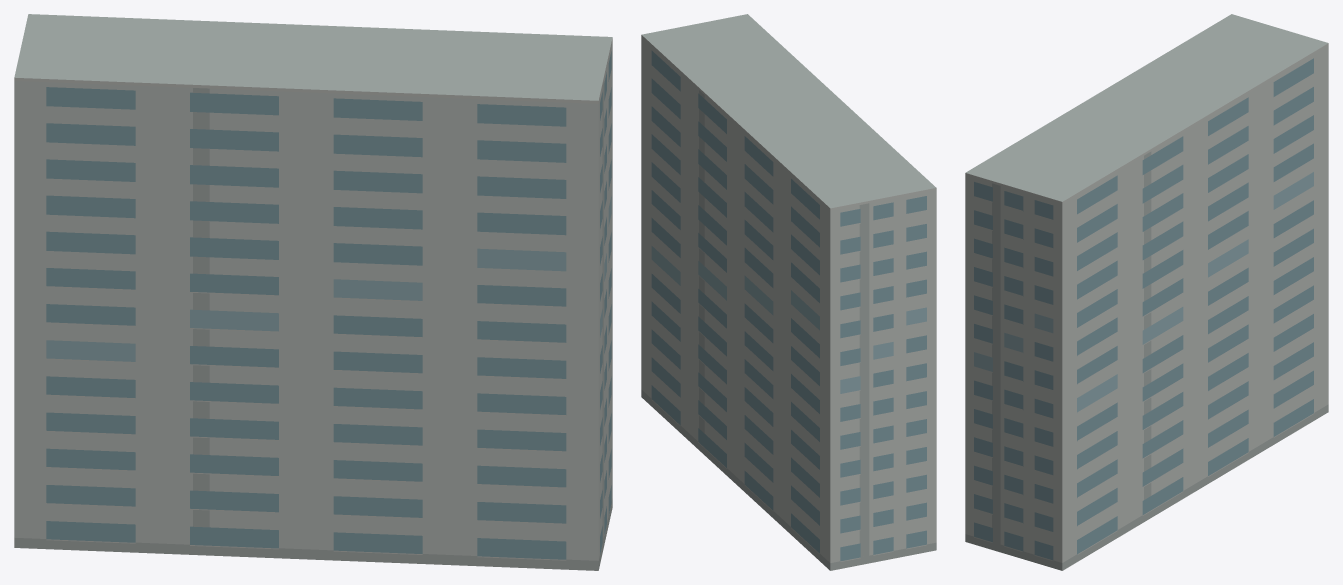
The model's file is residential-ad3ca71e-b210-4a19-a497-d48e309273f7.glb.
3 renders of one model, left to right at view 1: azimuth 30°, elevation 25°; view 2: azimuth 150°, elevation 25°; view 3: azimuth 270°, elevation 25°, orthographic. The views are drawn at different scales.
Visible parts, largest first — view 1: residential-ad3ca71e-b210-4a19-a497-d48e309273f7.tmp; view 2: residential-ad3ca71e-b210-4a19-a497-d48e309273f7.tmp; view 3: residential-ad3ca71e-b210-4a19-a497-d48e309273f7.tmp.
Part boxes in pixels (x1,y1,x2,y2): residential-ad3ca71e-b210-4a19-a497-d48e309273f7.tmp: [14, 14, 612, 570]; residential-ad3ca71e-b210-4a19-a497-d48e309273f7.tmp: [641, 14, 936, 570]; residential-ad3ca71e-b210-4a19-a497-d48e309273f7.tmp: [965, 14, 1328, 570].
Size of the model in its own units: 40.41 by 37 by 33.04.
